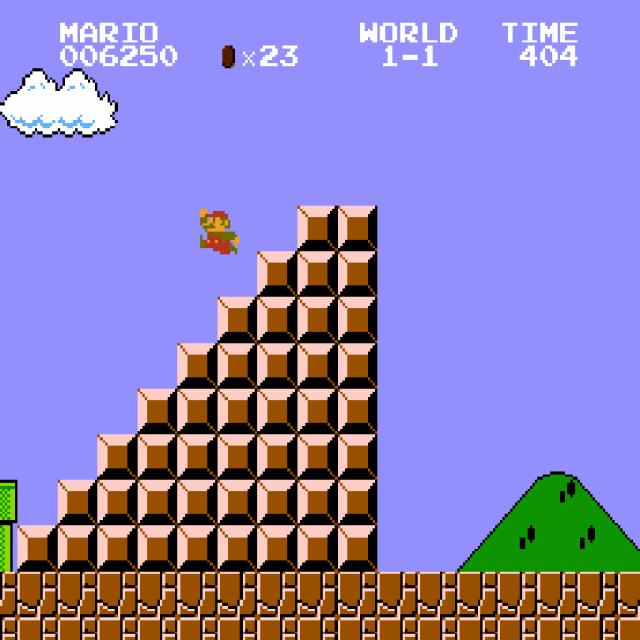hard_block: (57, 480, 98, 526), (97, 434, 138, 480), (97, 480, 138, 526), (137, 434, 178, 480), (137, 480, 178, 526), (177, 434, 218, 480), (177, 480, 218, 526), (217, 297, 258, 343), (217, 434, 258, 480), (217, 480, 258, 526), (257, 297, 298, 343), (257, 434, 298, 480), (257, 480, 298, 526), (297, 297, 338, 343), (297, 434, 338, 480), (297, 480, 338, 526), (337, 297, 378, 343), (337, 434, 378, 480), (337, 480, 378, 526), (17, 526, 58, 571), (57, 526, 98, 571), (97, 526, 138, 571), (137, 389, 178, 434), (137, 526, 178, 571), (177, 343, 218, 388), (177, 389, 218, 434), (177, 526, 218, 571), (217, 343, 258, 388), (217, 389, 258, 434), (217, 526, 258, 571), (257, 252, 298, 297), (257, 343, 298, 388), (257, 389, 298, 434), (257, 526, 298, 571), (297, 206, 338, 251), (297, 252, 338, 297), (297, 343, 338, 388), (297, 389, 338, 434), (297, 526, 338, 571), (337, 206, 378, 251), (337, 252, 378, 297), (337, 343, 378, 388), (337, 389, 378, 434), (337, 526, 378, 571)
little_mario: (197, 206, 240, 254)
pipe: (0, 525, 17, 571)
pipe_head: (0, 480, 17, 525)
undestructible_block: (17, 572, 58, 617), (57, 572, 98, 617), (97, 572, 138, 617), (137, 572, 178, 617), (177, 572, 218, 617), (217, 572, 258, 617), (257, 572, 298, 617), (297, 572, 338, 617), (337, 572, 378, 617), (377, 572, 418, 617), (417, 572, 458, 617), (457, 572, 498, 617), (497, 572, 538, 617), (537, 572, 578, 617), (577, 572, 618, 617), (618, 572, 640, 617), (17, 617, 58, 640), (57, 617, 98, 640), (97, 617, 138, 640), (137, 617, 178, 640), (177, 617, 218, 640), (217, 617, 258, 640), (257, 617, 298, 640), (297, 617, 338, 640), (337, 617, 378, 640), (377, 617, 418, 640), (417, 617, 458, 640), (457, 617, 498, 640), (497, 617, 538, 640), (537, 617, 578, 640), (577, 617, 618, 640), (0, 571, 17, 617), (618, 617, 640, 640), (0, 617, 17, 639)
